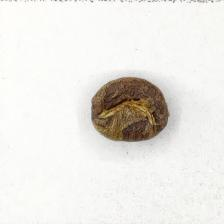NG: (94, 76, 167, 142)
